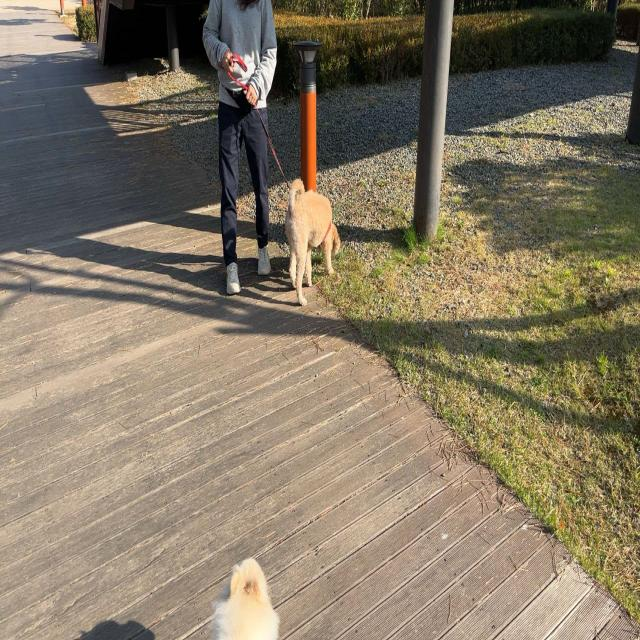Leashed_Dog: (216, 44, 342, 307)
